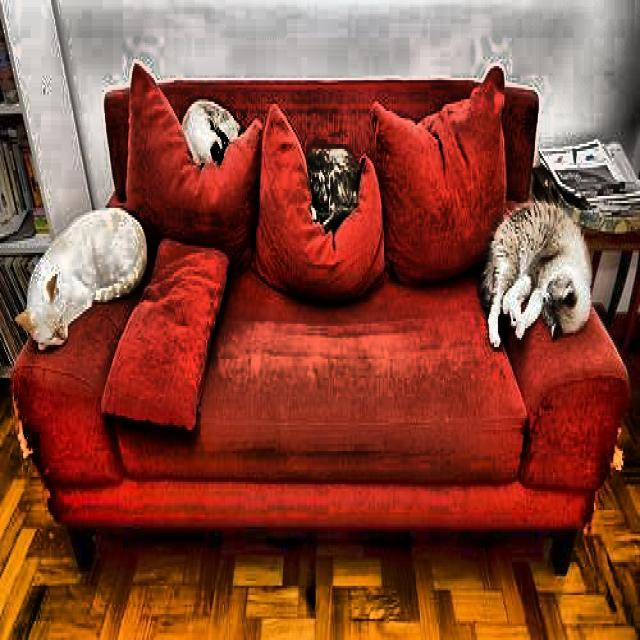sofa: (10, 66, 631, 541)
